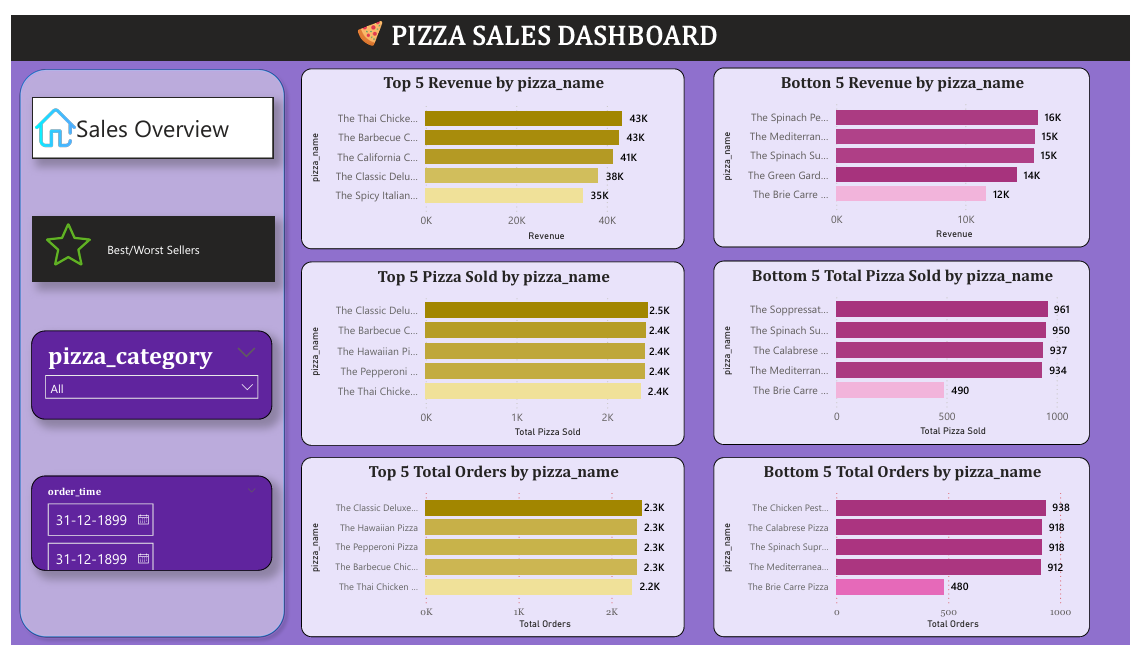

What the dashboard file says about the page in this screenshot:
{"tool":"powerbi","page":{"name":"Best/Worst Sellers","canvas":[1280,720],"ordinal":1},"visuals":[{"type":"textbox","box":[0,0,1280,51.9],"z":0},{"type":"image","box":[386.1,0,47.1,39.8],"z":1000},{"type":"shape","box":[0,51.9,320.9,668.4],"z":2000},{"type":"slicer","fields":{"Values":["pizza_sales.pizza_category"]},"box":[21.7,359.5,276.3,102.5],"z":3000},{"type":"slicer","fields":{"Values":["pizza_sales.order_time"]},"box":[22,526,276,109],"z":4000},{"type":"clusteredBarChart","title":"Top 5 Revenue by pizza_name","fields":{"Category":["pizza_sales.pizza_name"],"Y":["pizza_sales.Revenue"]},"box":[330.6,60.3,439.1,206.3],"z":5000},{"type":"clusteredBarChart","title":"Top 5 Pizza Sold by pizza_name","fields":{"Category":["pizza_sales.pizza_name"],"Y":["pizza_sales.Total Pizza Sold"]},"box":[330.6,281.1,439.1,211.1],"z":6000},{"type":"clusteredBarChart","title":"Top 5 Total Orders by pizza_name","fields":{"Category":["pizza_sales.pizza_name"],"Y":["pizza_sales.Total Orders"]},"box":[330.6,505.5,439.1,205.1],"z":7000},{"type":"pageNavigator","box":[22.9,92.9,276.3,70],"z":8000},{"type":"pageNavigator","box":[24.1,229.2,276.3,74.8],"z":9000},{"type":"image","box":[21.7,92.9,56.7,70],"z":10000},{"type":"image","box":[33.8,229.2,61.5,63.9],"z":11000},{"type":"clusteredBarChart","title":"Botton 5 Revenue by pizza_name","fields":{"Category":["pizza_sales.pizza_name"],"Y":["pizza_sales.Revenue"]},"box":[803.5,59.1,430.7,206.3],"z":12000},{"type":"clusteredBarChart","title":"Bottom 5 Total Pizza Sold by pizza_name","fields":{"Category":["pizza_sales.pizza_name"],"Y":["pizza_sales.Total Pizza Sold"]},"box":[803.5,279.9,430.7,211.1],"z":13000},{"type":"clusteredBarChart","title":"Bottom 5 Total Orders by pizza_name","fields":{"Category":["pizza_sales.pizza_name"],"Y":["pizza_sales.Total Orders"]},"box":[803.5,505.5,430.7,205.1],"z":14000}]}

Visuals, with their boxes in screenshot pixels (x1, y1, x2, y2), scaled from the page's 1280x720 canvas onto the 1143x657 screenshot:
textbox: box=[0, 0, 1142, 47]
image: box=[345, 0, 387, 36]
shape: box=[0, 47, 287, 656]
slicer - pizza_sales.pizza_category: box=[19, 328, 266, 422]
slicer - pizza_sales.order_time: box=[20, 480, 266, 579]
"Top 5 Revenue by pizza_name" clusteredBarChart: box=[295, 55, 687, 243]
"Top 5 Pizza Sold by pizza_name" clusteredBarChart: box=[295, 257, 687, 449]
"Top 5 Total Orders by pizza_name" clusteredBarChart: box=[295, 461, 687, 648]
pageNavigator: box=[20, 85, 267, 149]
pageNavigator: box=[22, 209, 268, 277]
image: box=[19, 85, 70, 149]
image: box=[30, 209, 85, 267]
"Botton 5 Revenue by pizza_name" clusteredBarChart: box=[718, 54, 1102, 242]
"Bottom 5 Total Pizza Sold by pizza_name" clusteredBarChart: box=[718, 255, 1102, 448]
"Bottom 5 Total Orders by pizza_name" clusteredBarChart: box=[718, 461, 1102, 648]
